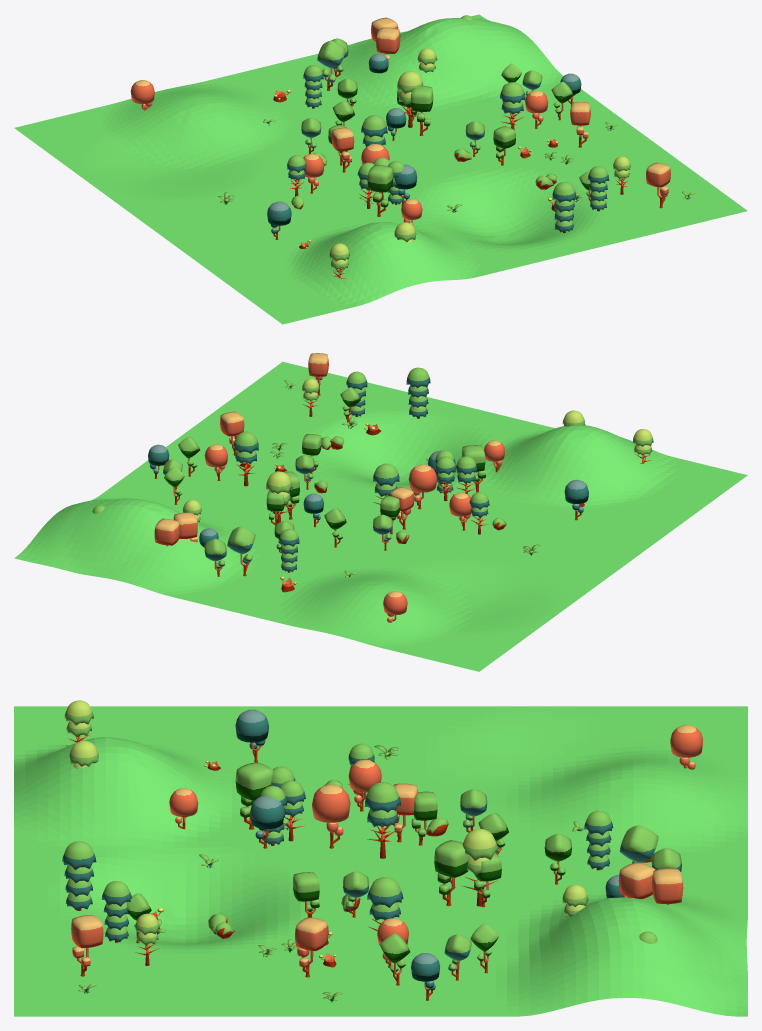
The model's file is world1.glb.
3 views of the same model, one above another, from view 1: azimuth 30°, elevation 25°; view 2: azimuth 150°, elevation 25°; view 3: azimuth 270°, elevation 25° (orthographic). The views are drawn at different scales.
Parts seen in each view (by area): view 1: Plane; view 2: Plane; view 3: Plane.
Boxes of the visible parts, x1=… form: Plane: x1=14, y1=14, x2=747, y2=324; Plane: x1=14, y1=353, x2=747, y2=671; Plane: x1=14, y1=700, x2=747, y2=1016.
Size of the model in its own units: 59.46 by 9.82 by 59.46.
2 materials, 1 textured.
